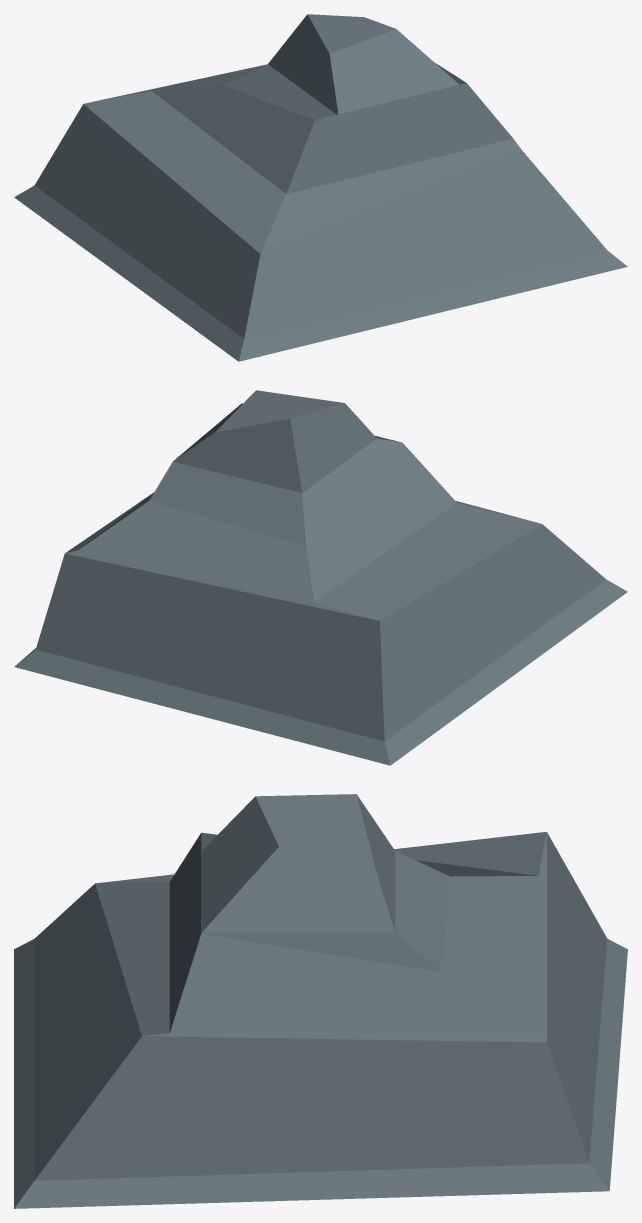
The model's file is Steen vierkant4.fbx.
3 views of the same model, one above another, from view 1: azimuth 30°, elevation 25°; view 2: azimuth 150°, elevation 25°; view 3: azimuth 270°, elevation 25° (orthographic). The views are drawn at different scales.
Parts seen in each view (by area): view 1: Square steen1; view 2: Square steen1; view 3: Square steen1.
Part boxes in pixels (x1,y1,x2,y2): Square steen1: (14, 14, 627, 361); Square steen1: (14, 390, 627, 765); Square steen1: (14, 794, 627, 1208).
Bounding box in the file's own units: 153 × 78.17 × 153.
